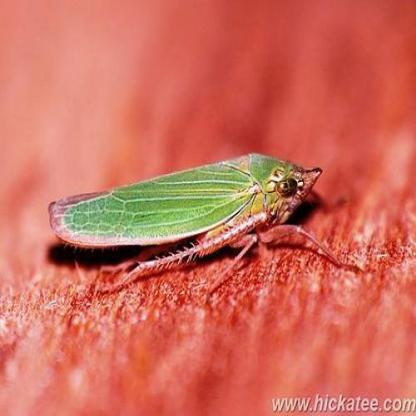green-leafhopper: (46, 154, 322, 281)
